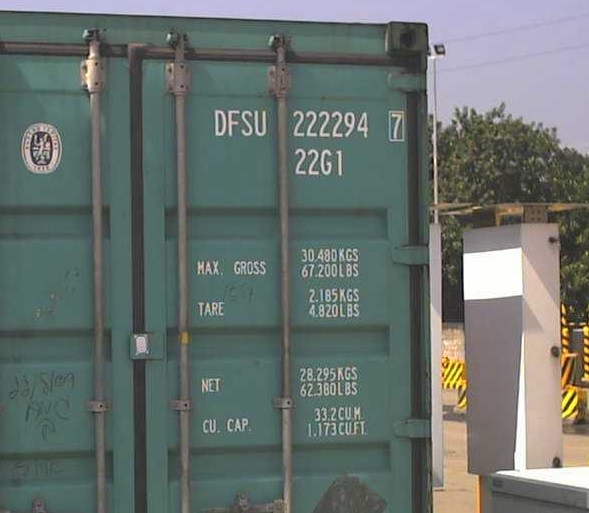container_door: (1, 6, 433, 513)
